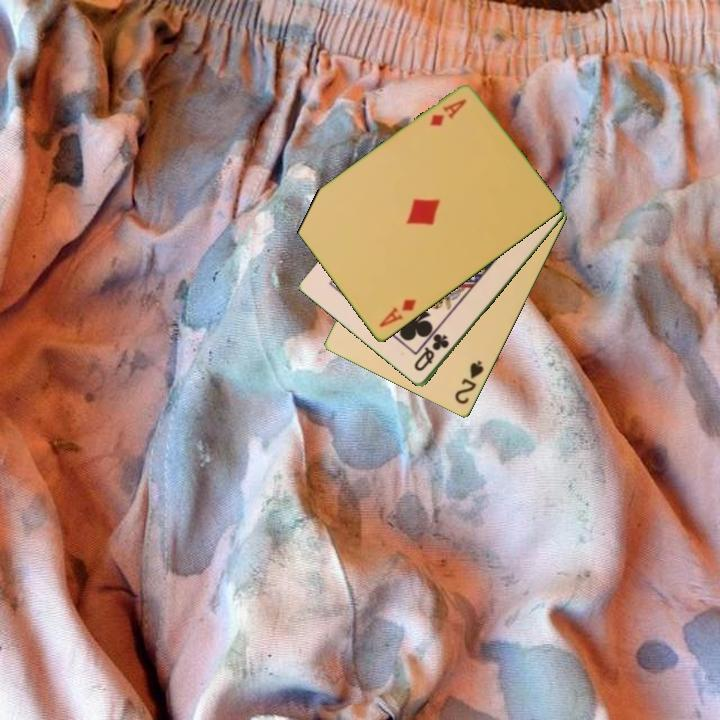2s: (451, 357, 487, 408)
Ad: (375, 296, 419, 331), (426, 95, 469, 130)
Qc: (410, 330, 452, 375)
